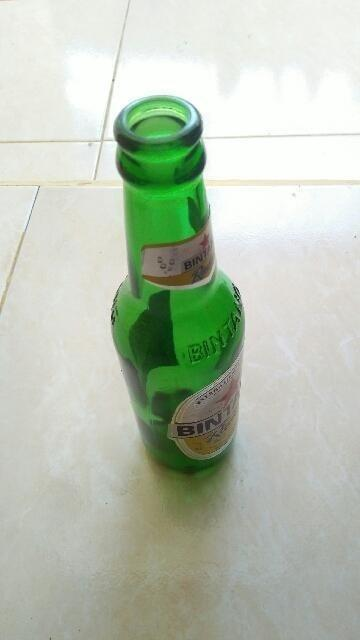bottle-glass: (108, 94, 249, 478)
